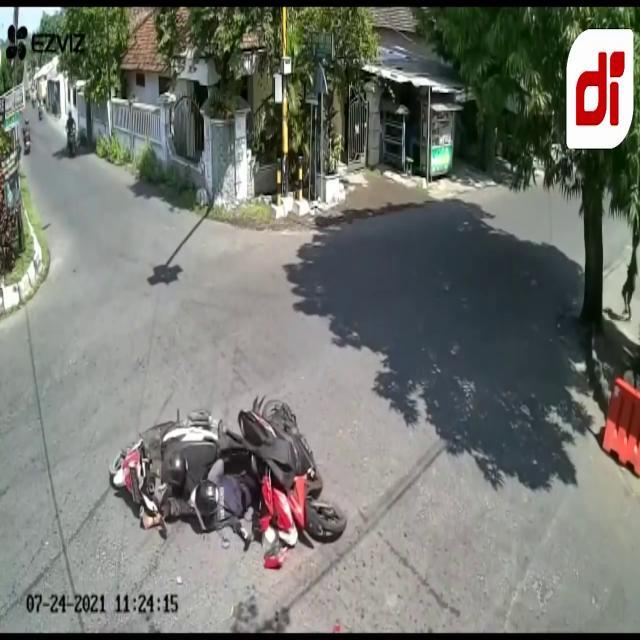multiple_accident: (74, 362, 387, 577)
